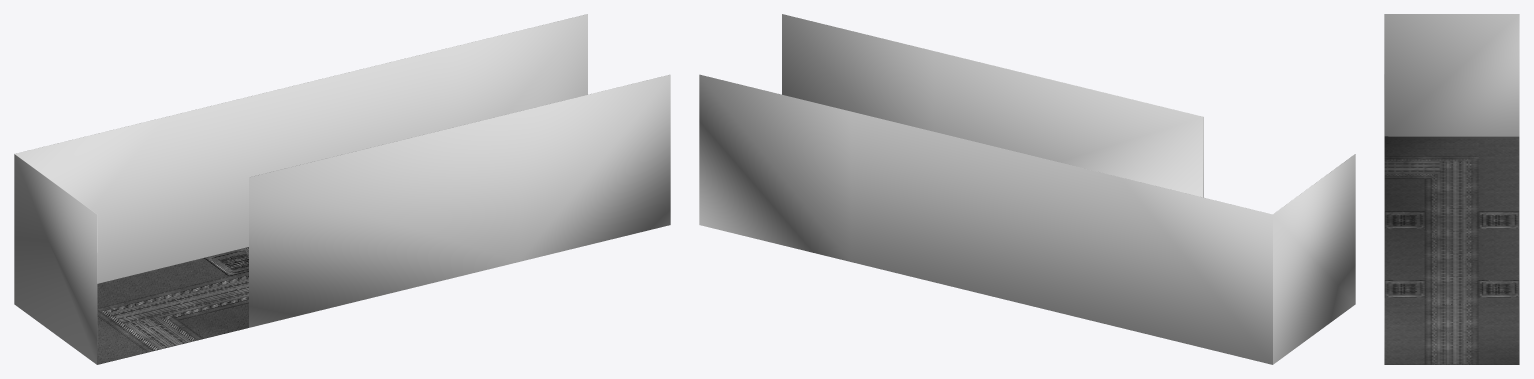
File: corridor_c-2.fbx
3 views of the same model, side by side, from view 1: azimuth 30°, elevation 25°; view 2: azimuth 150°, elevation 25°; view 3: azimuth 270°, elevation 25° (orthographic). The views are drawn at different scales.
Parts seen in each view (by area): view 1: corridor C-2; view 2: corridor C-2; view 3: corridor C-2.
Boxes of the visible parts, x1,y1,x2,y2 form: corridor C-2: (14,14,670,364); corridor C-2: (699,14,1355,364); corridor C-2: (1384,14,1519,364).
Size of the model in its own units: 1443 by 361 by 361.
